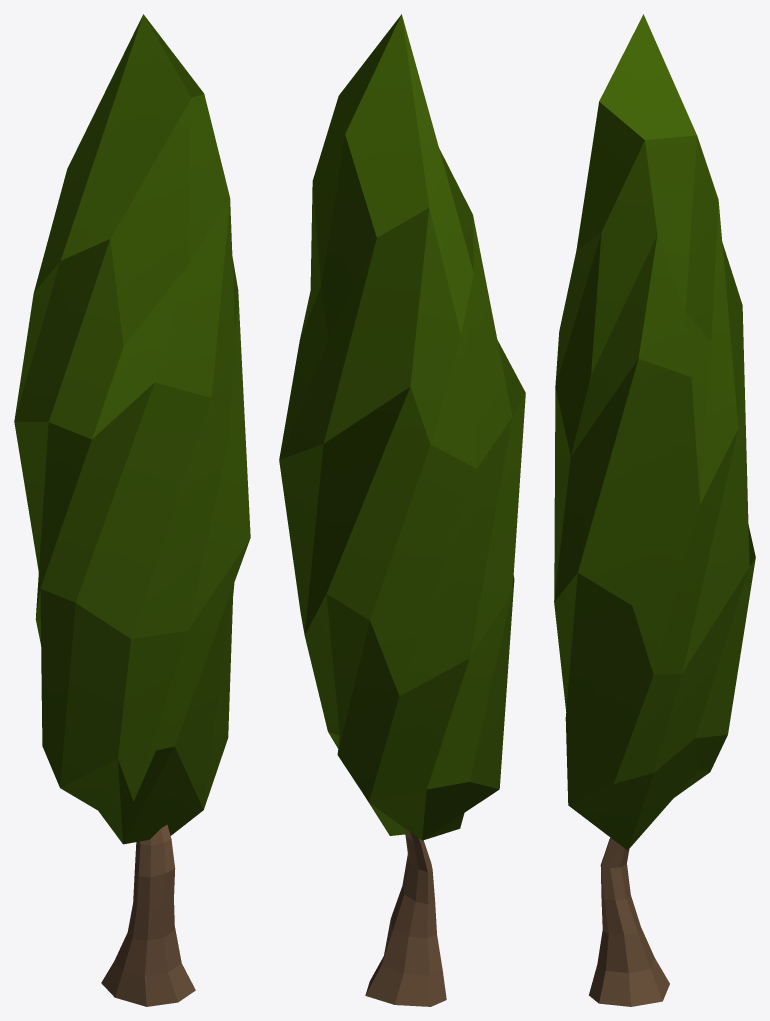
3 renders of one model, left to right at view 1: azimuth 30°, elevation 25°; view 2: azimuth 150°, elevation 25°; view 3: azimuth 270°, elevation 25°, orthographic.
Parts seen in each view (by area): view 1: coniferous_trees_05; view 2: coniferous_trees_05; view 3: coniferous_trees_05.
Boxes of the visible parts, x1,y1,x2,y2 form: coniferous_trees_05: (14,14,250,1006); coniferous_trees_05: (279,14,525,1006); coniferous_trees_05: (554,14,755,1006).
Bounding box in the file's own units: 0.6076 × 2.81 × 0.5248.
